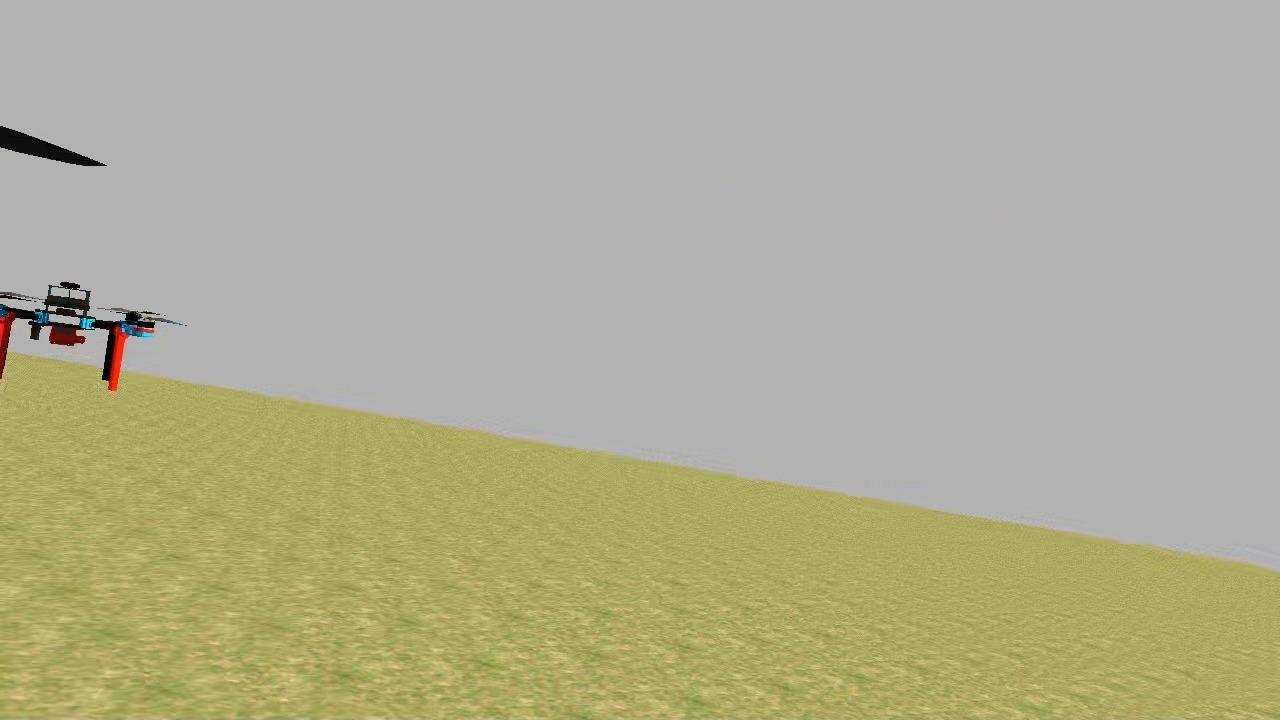UAV: (0, 269, 170, 404)
